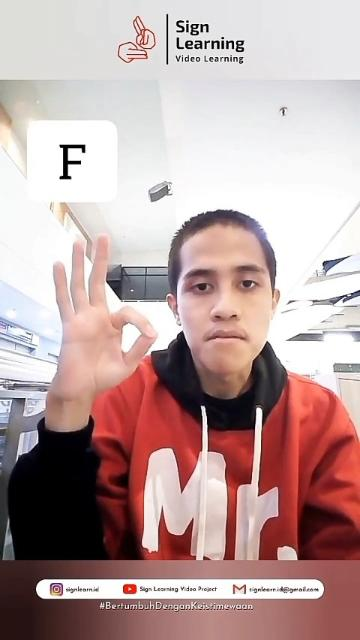F: (50, 232, 158, 400)
